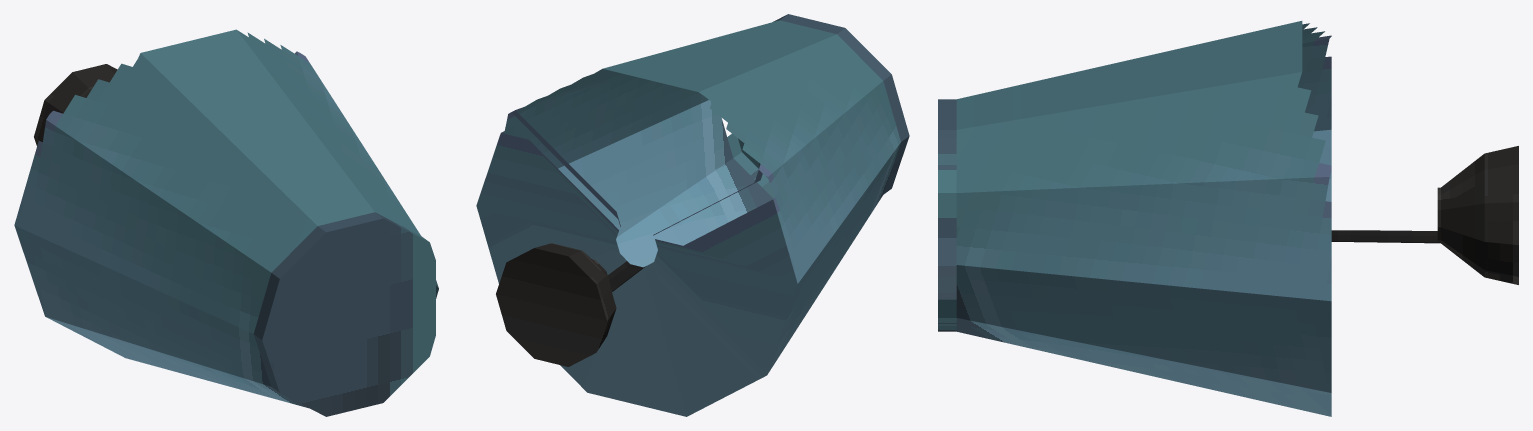
File: pz_lamp_12.obj
The picture shows the model from 3 angles, left to right: view 1: azimuth 30°, elevation 25°; view 2: azimuth 150°, elevation 25°; view 3: azimuth 270°, elevation 25°; orthographic projection. The views are drawn at different scales.
Size of the model in its own units: 0.26 by 0.2473 by 0.372.
1 material, 1 textured.
